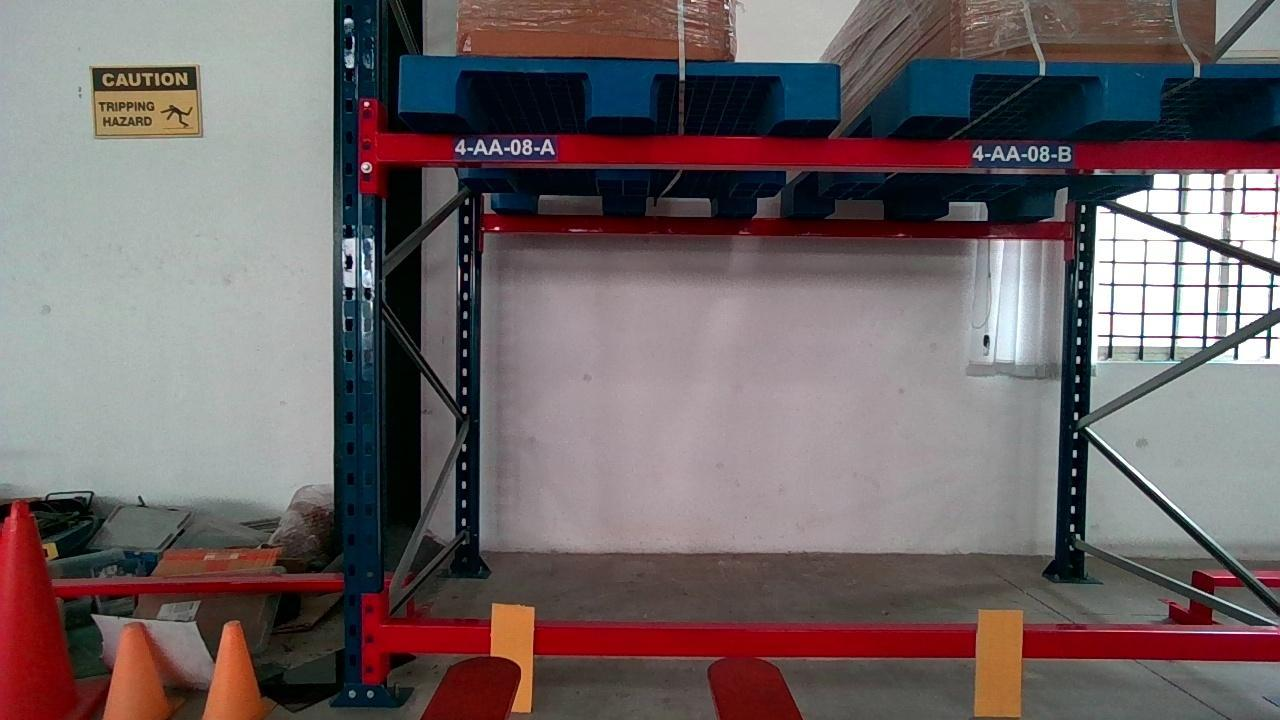h_rack: (385, 623, 1279, 663), (385, 132, 1279, 165)
orange_strip: (973, 612, 1026, 719), (490, 603, 531, 710)
small_pallet: (398, 57, 837, 117), (918, 61, 1280, 124)
